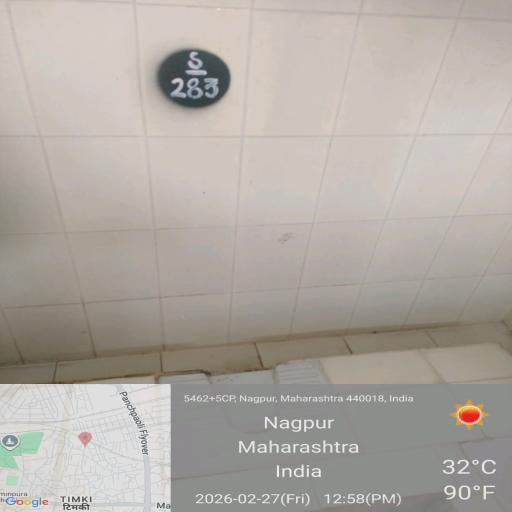clean_floor: (37, 22, 477, 324)
clean_urinal: (51, 342, 512, 512)
